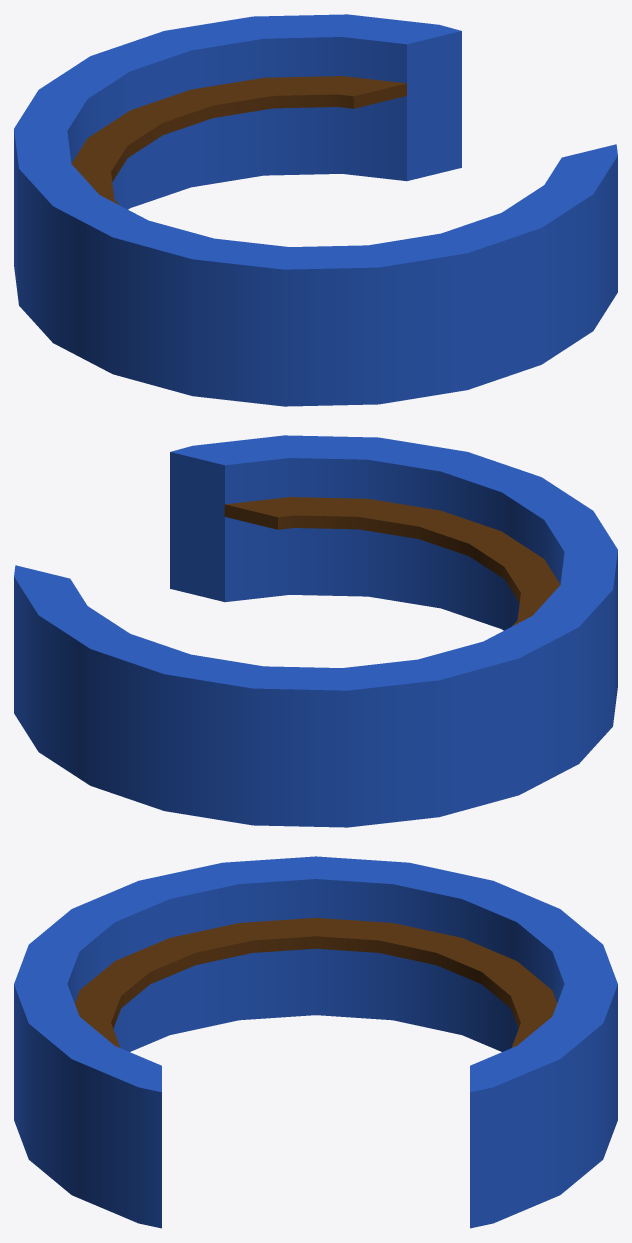
File: Reception Model.FBX
3 renders of one model, top to bottom at view 1: azimuth 30°, elevation 25°; view 2: azimuth 150°, elevation 25°; view 3: azimuth 270°, elevation 25°, orthographic.
Visible parts, largest first — view 1: Reception, Reception desk; view 2: Reception, Reception desk; view 3: Reception, Reception desk.
Part boxes in pixels (box(x1,y1,x2,y2)): Reception: box(14, 14, 617, 406); Reception desk: box(71, 76, 406, 204); Reception: box(14, 435, 617, 827); Reception desk: box(224, 497, 560, 625); Reception: box(14, 856, 617, 1228); Reception desk: box(74, 918, 557, 1047).
Bounding box in the file's own units: 49.41 × 13.29 × 53.45.
